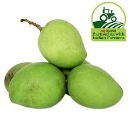mango: (37, 18, 88, 68)
